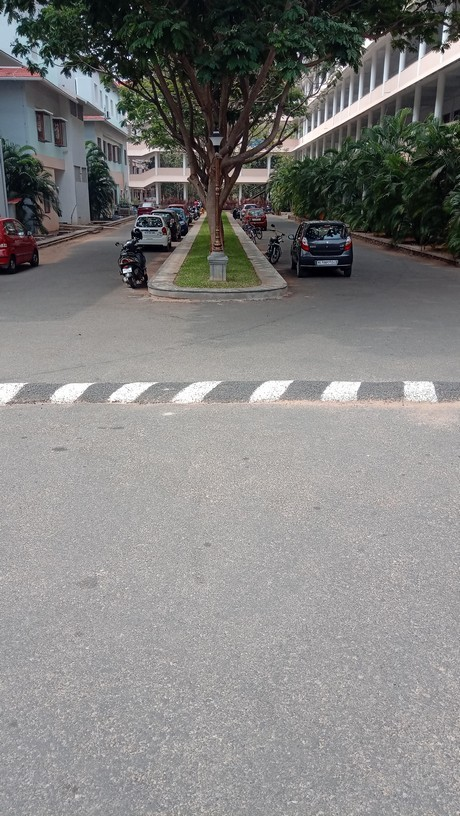bump: (1, 378, 460, 405)
